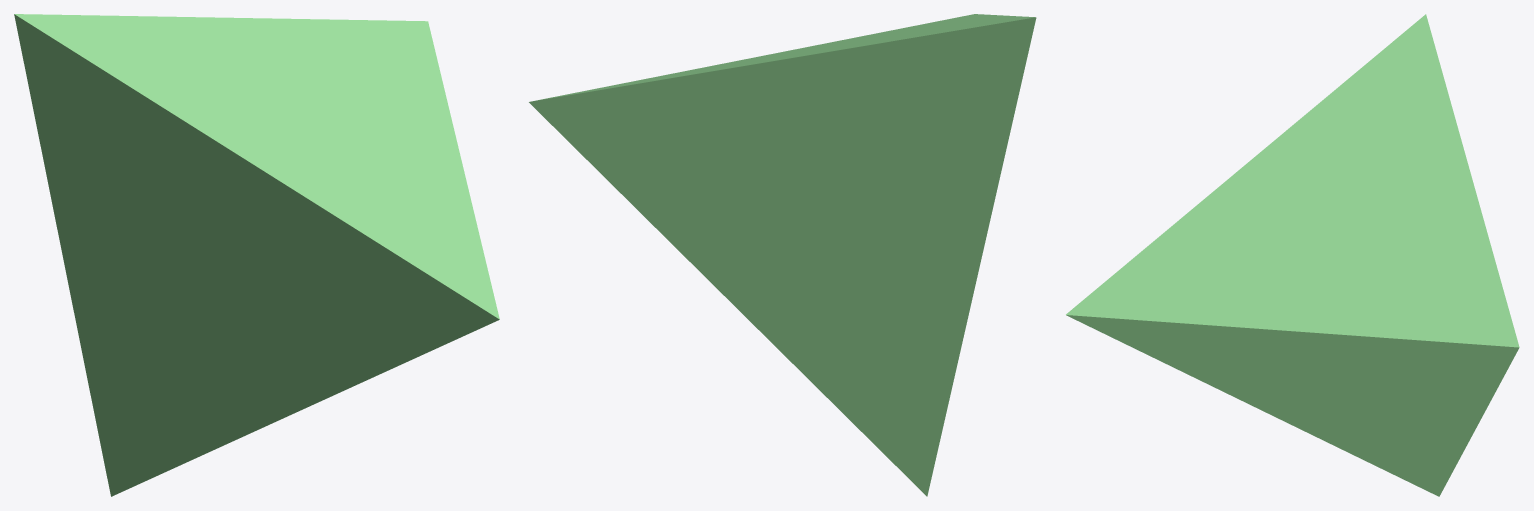
File: tetrahedron.gltf
The picture shows the model from 3 angles, left to right: view 1: azimuth 30°, elevation 25°; view 2: azimuth 150°, elevation 25°; view 3: azimuth 270°, elevation 25°; orthographic projection. The views are drawn at different scales.
Visible parts, largest first — view 1: Tetrahedron_applied; view 2: Tetrahedron_applied; view 3: Tetrahedron_applied.
Part boxes in pixels (x1=…): Tetrahedron_applied: x1=14, y1=14, x2=499, y2=496; Tetrahedron_applied: x1=529, y1=14, x2=1036, y2=496; Tetrahedron_applied: x1=1066, y1=14, x2=1519, y2=496.
Size of the model in its own units: 1.52 by 1.6 by 1.5.
